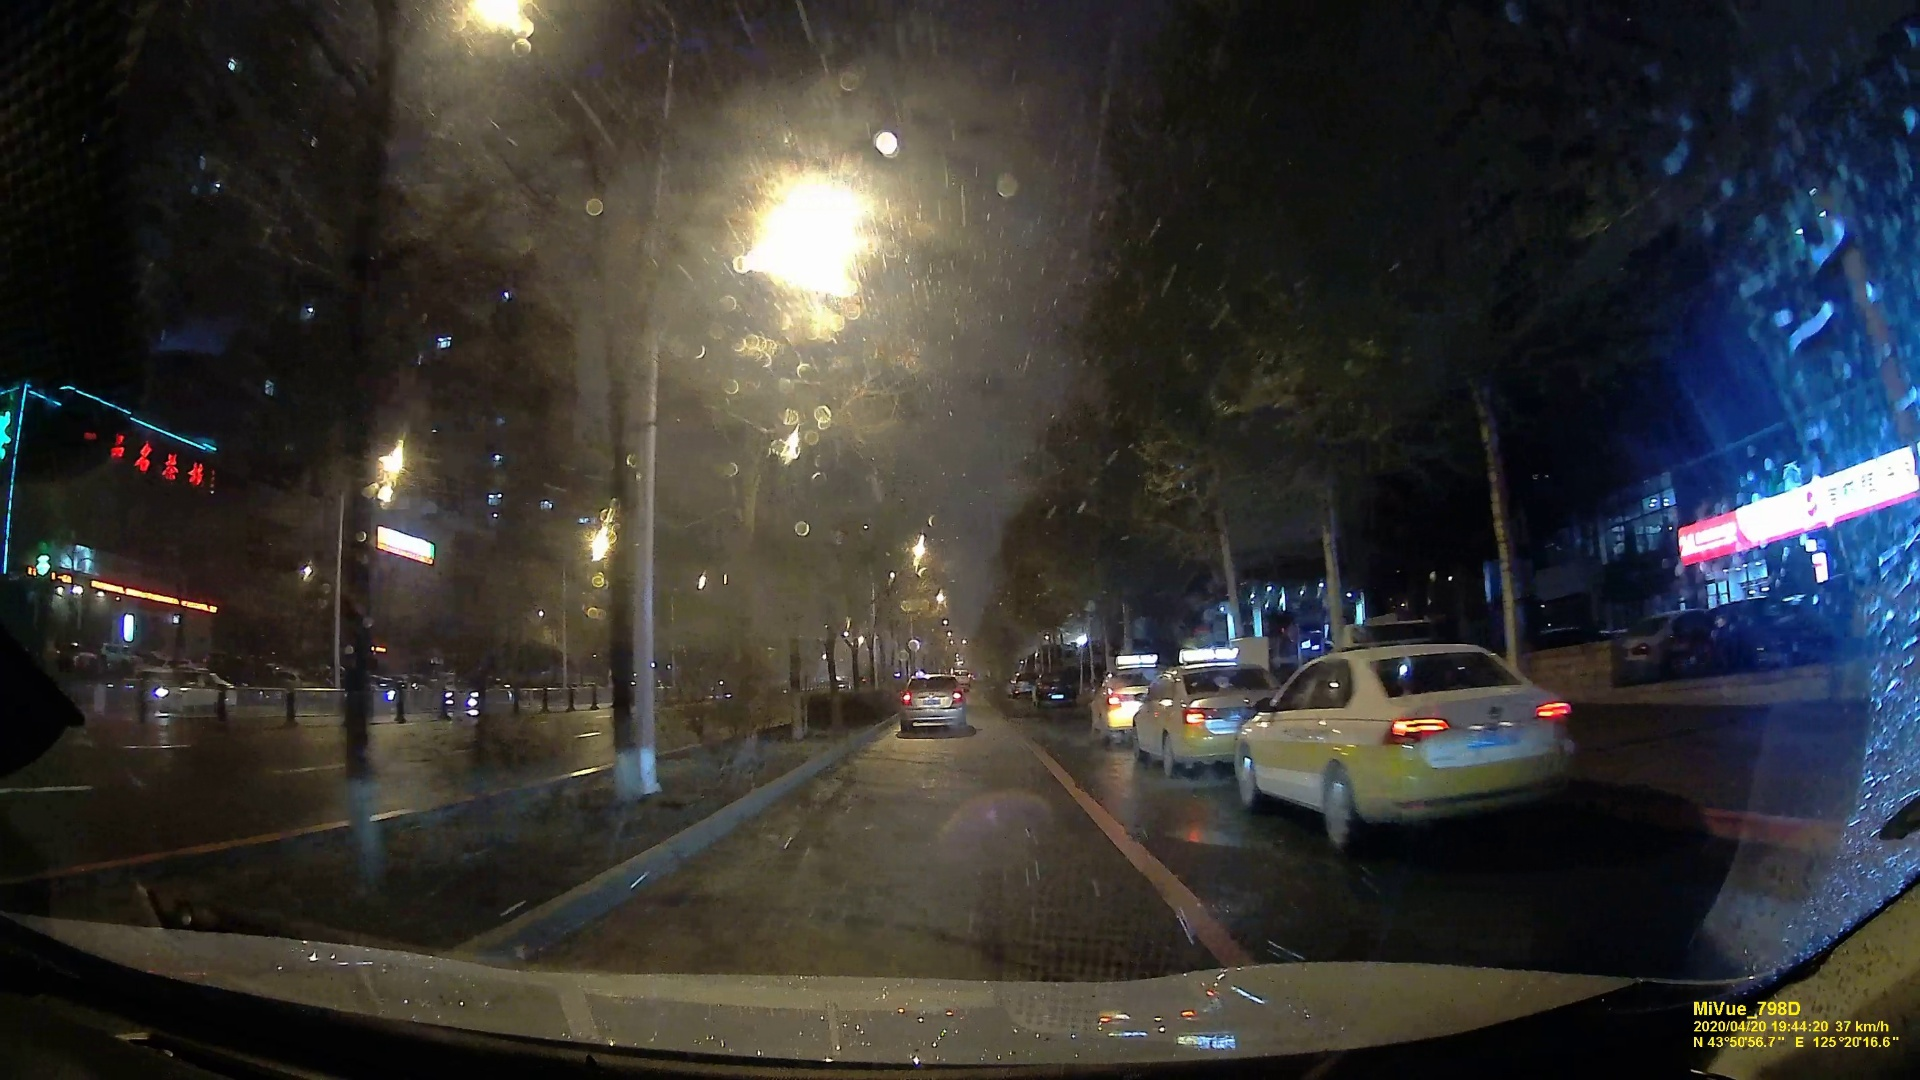vehicle: (1233, 638, 1582, 848), (1138, 659, 1280, 775), (131, 665, 228, 712), (899, 671, 971, 732), (1093, 673, 1149, 744), (440, 676, 516, 712)
